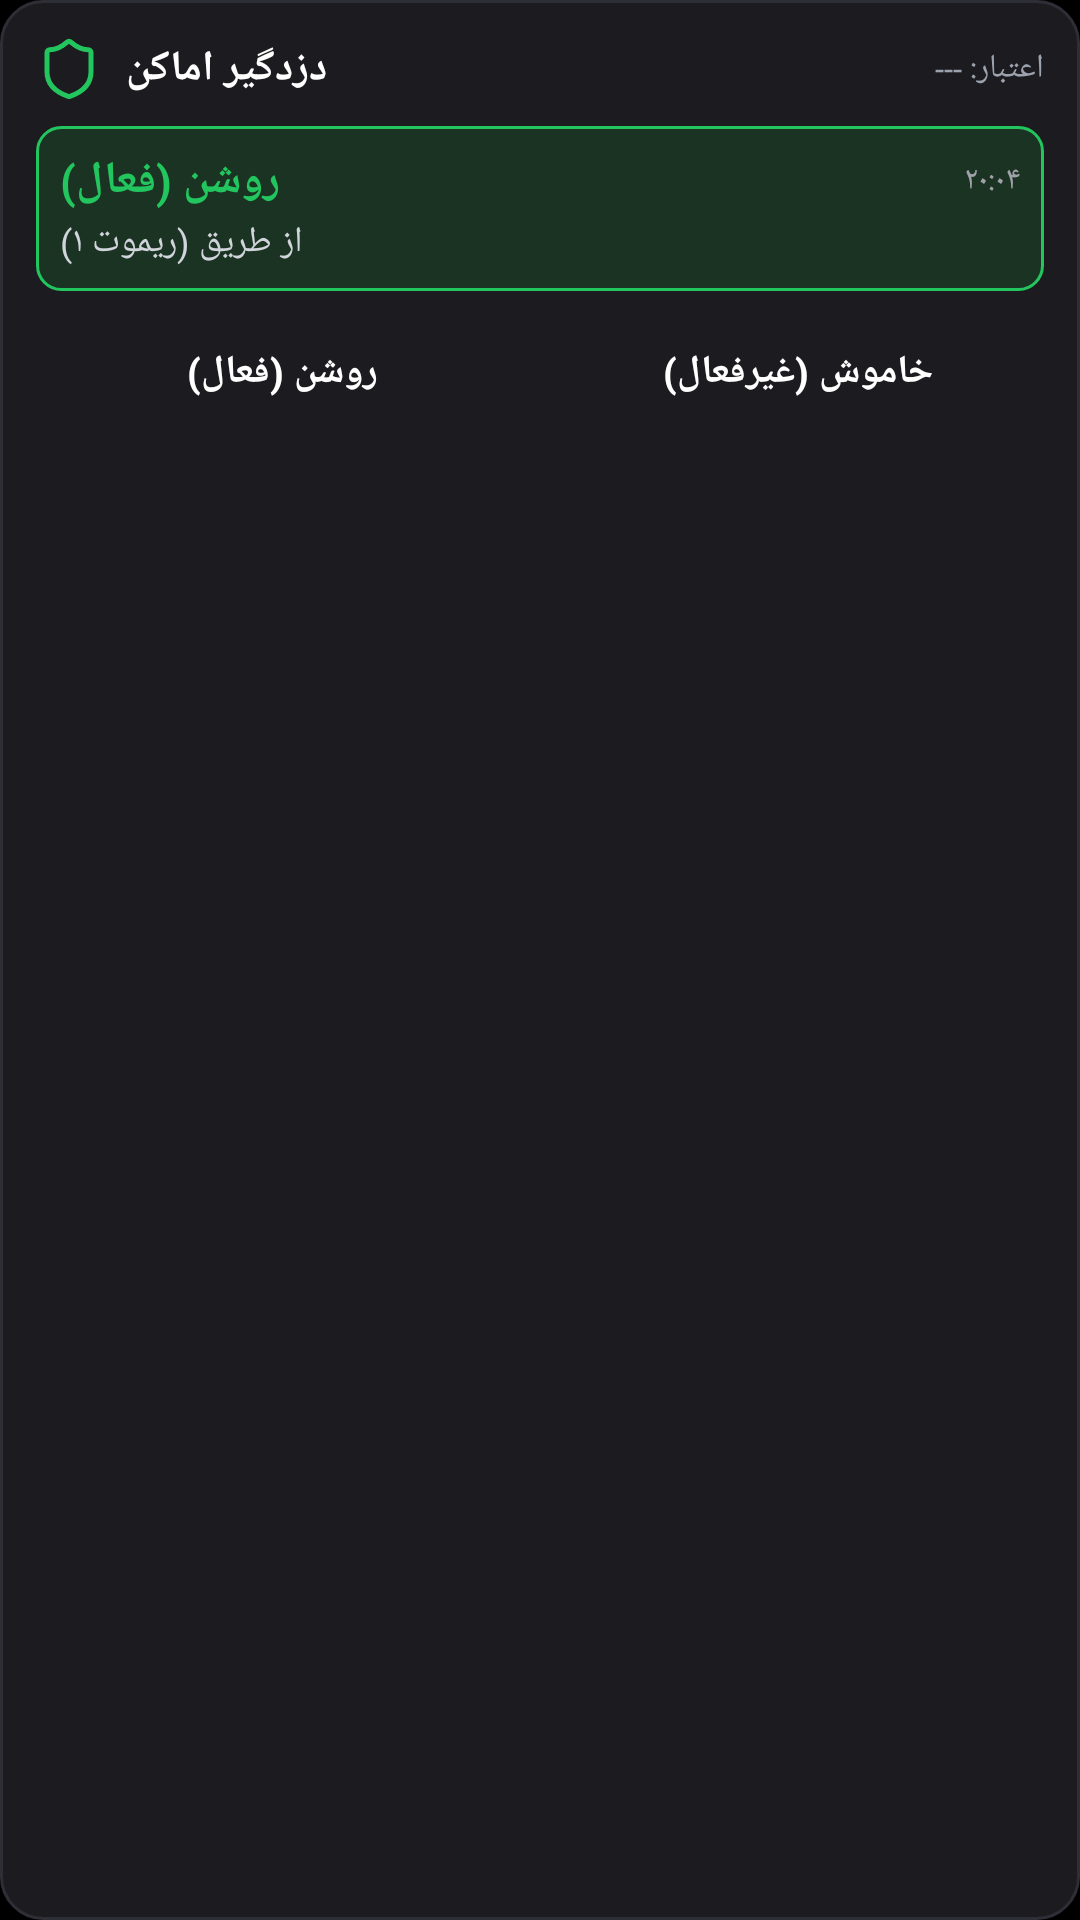

Named icons in this screenshot (1080x1920) and their bounding boxes, (x1, y1, x2, y2):
shield: (44, 39, 94, 99)
